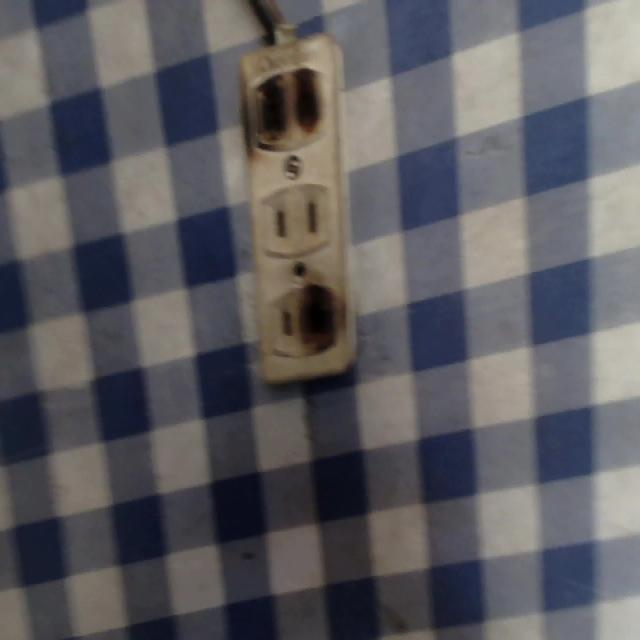-: (248, 63, 325, 145), (296, 281, 340, 355)
